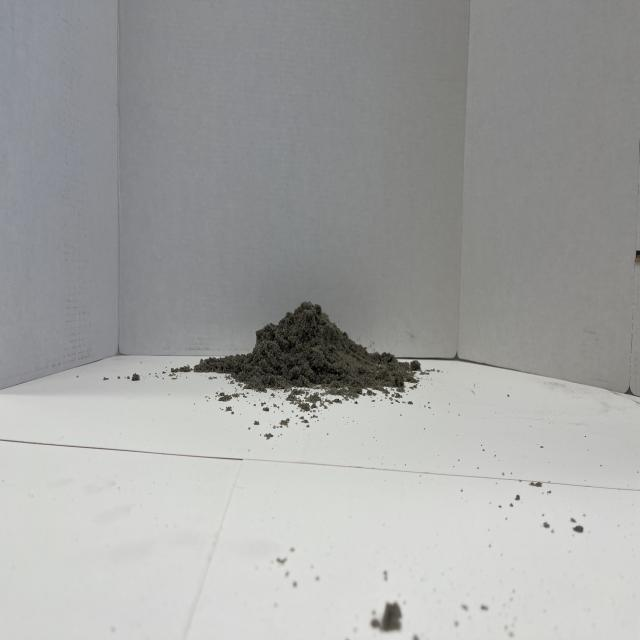sand: (195, 287, 408, 397)
